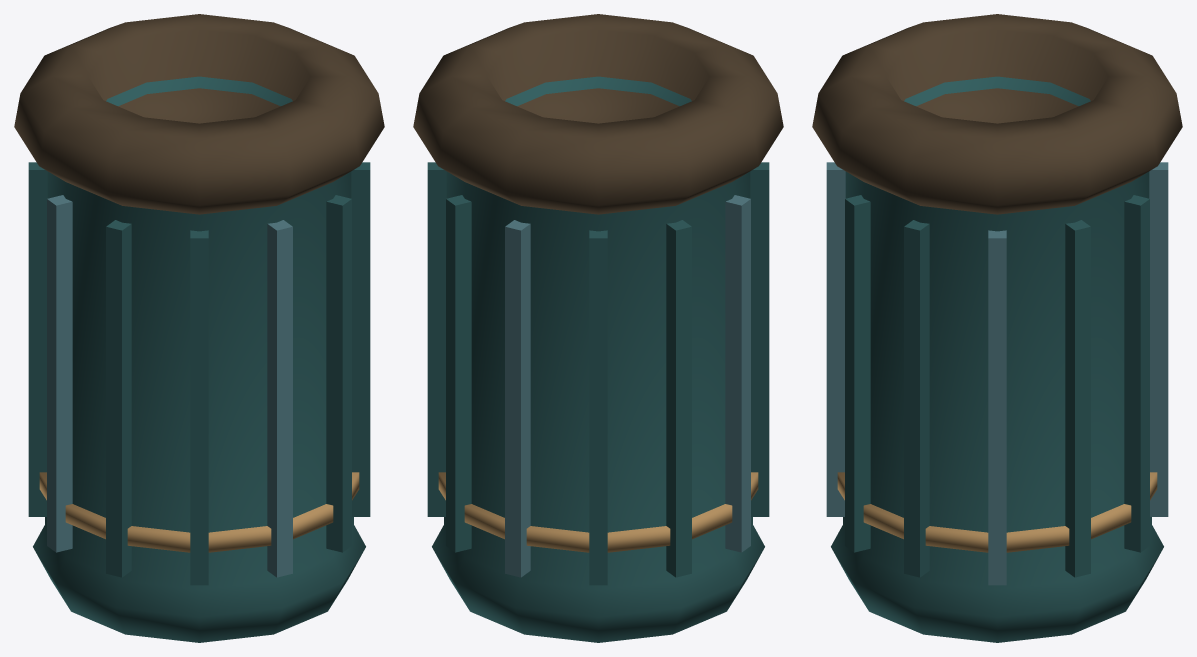
File: litter_bin.glb
3 views of the same model, side by side, from view 1: azimuth 30°, elevation 25°; view 2: azimuth 150°, elevation 25°; view 3: azimuth 270°, elevation 25° (orthographic).
Visible parts, largest first — view 1: litter_bin; view 2: litter_bin; view 3: litter_bin.
Boxes of the visible parts, left/top/right/bottom form: litter_bin: left=14, top=14, right=384, bottom=642; litter_bin: left=413, top=14, right=783, bottom=642; litter_bin: left=812, top=14, right=1182, bottom=642.
Size of the model in its own units: 0.6 by 0.9 by 0.6.
